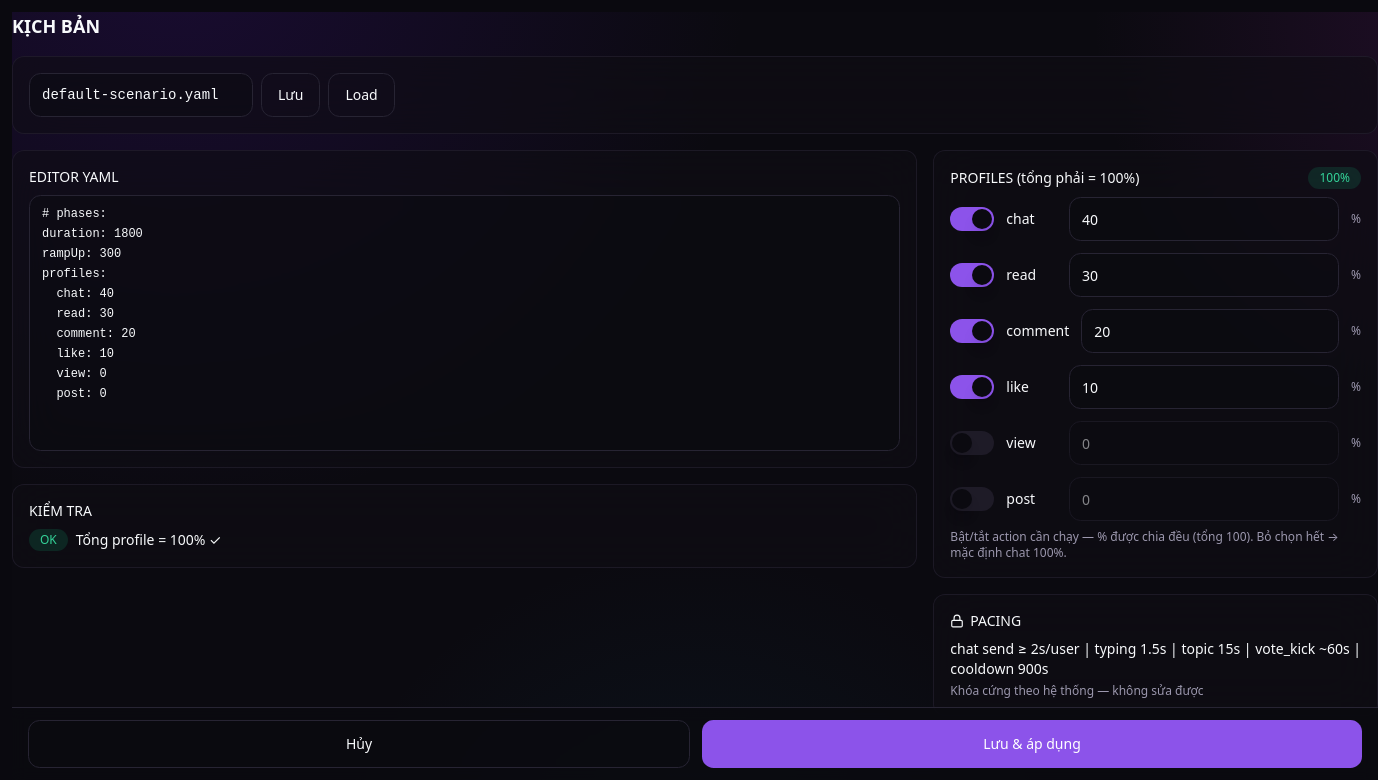
Test: ScenarioBuilderPage — toggle action (F1) › tắt read → input read = 0 + disabled, chat/comment/like chia lại đều
This screenshot has width=1378, height=780.
Expected: the number field next to "read" holds "30", 1069,253 -> 1339,297
Step 1. Click the switch named "Bật action read" → (972, 275), box 950,263 -> 994,287
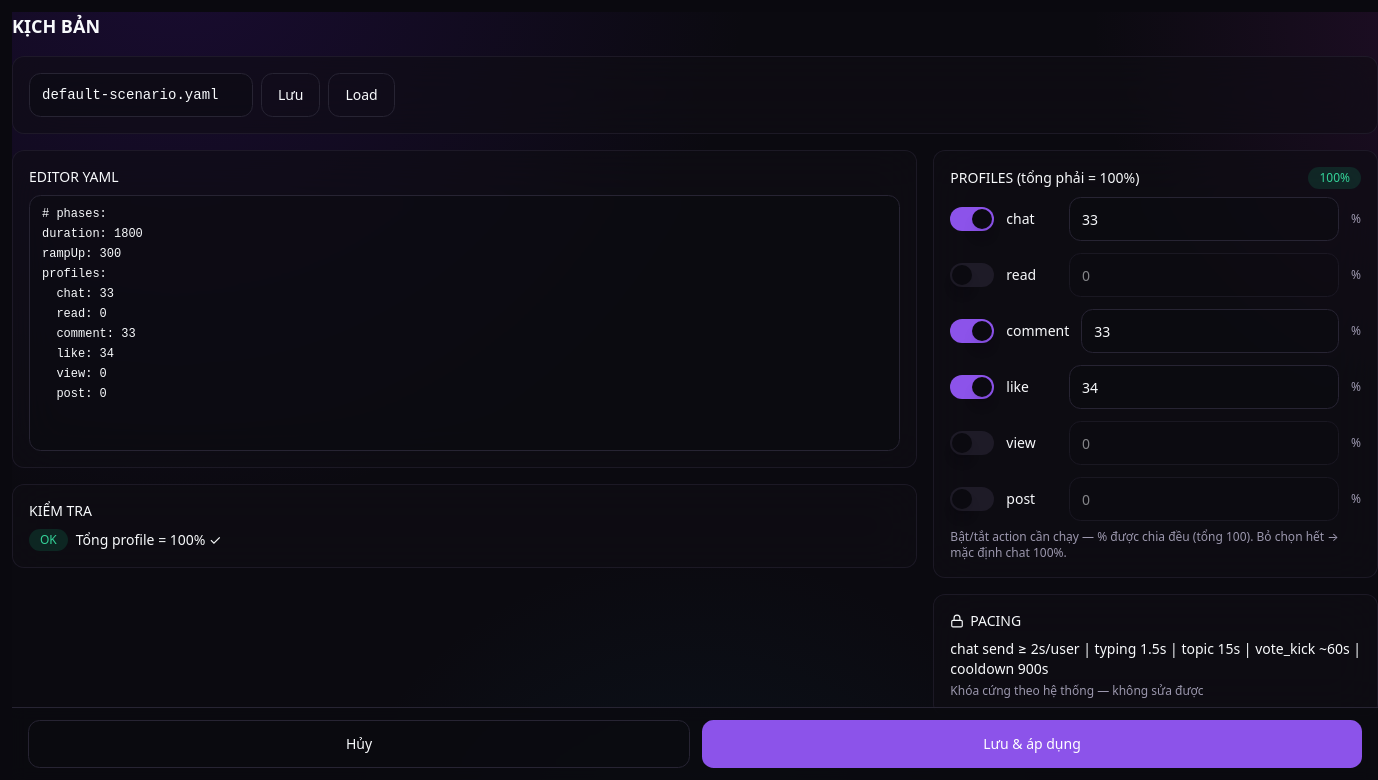
Result: the number field next to "read" holds "0" at 1069,253 -> 1339,297
Result: the number field next to "read" is disabled at 1069,253 -> 1339,297
Result: the 1st number field holds "33" at 1069,197 -> 1339,241
